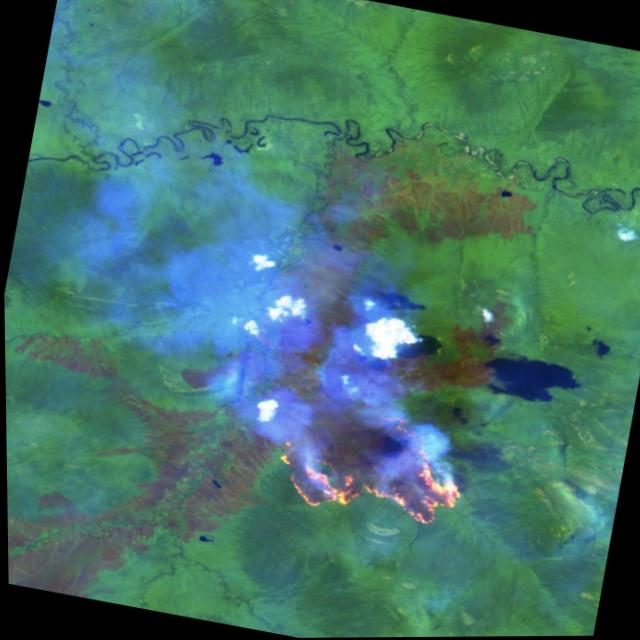fire: (255, 383, 480, 544)
